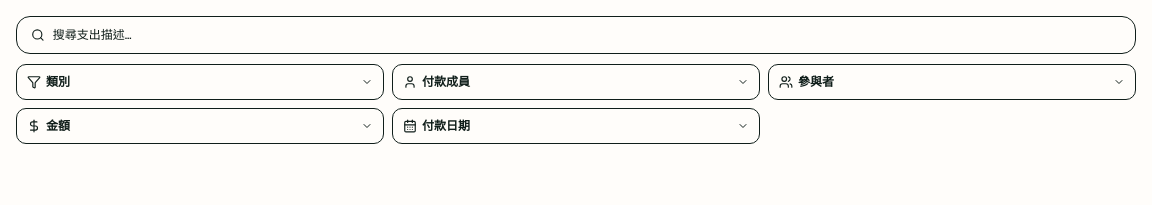
Test case: ExpenseFilterBar panels › shows the empty state when there are no payers
Click the button "付款成員" at (446, 82), box [392,64,760,100]
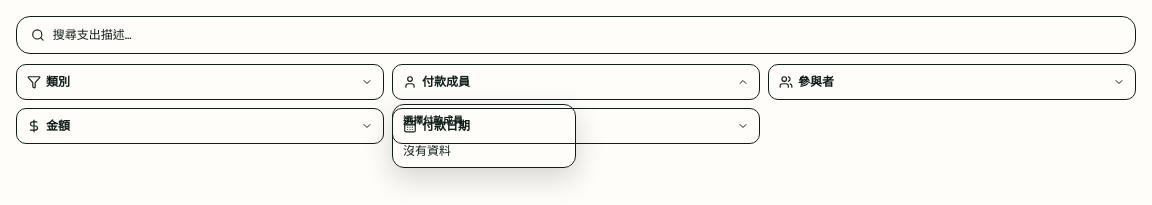
Now the text "沒有資料" is shown, box [403,143,451,159]
